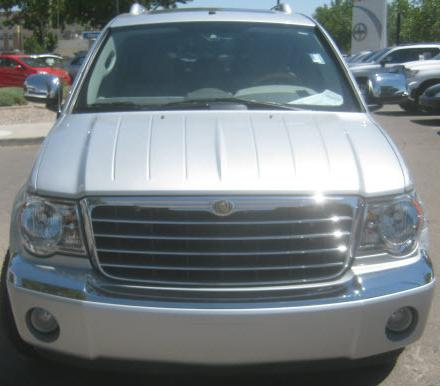front_view: (10, 175, 433, 356)
headlight: (13, 188, 109, 259)
